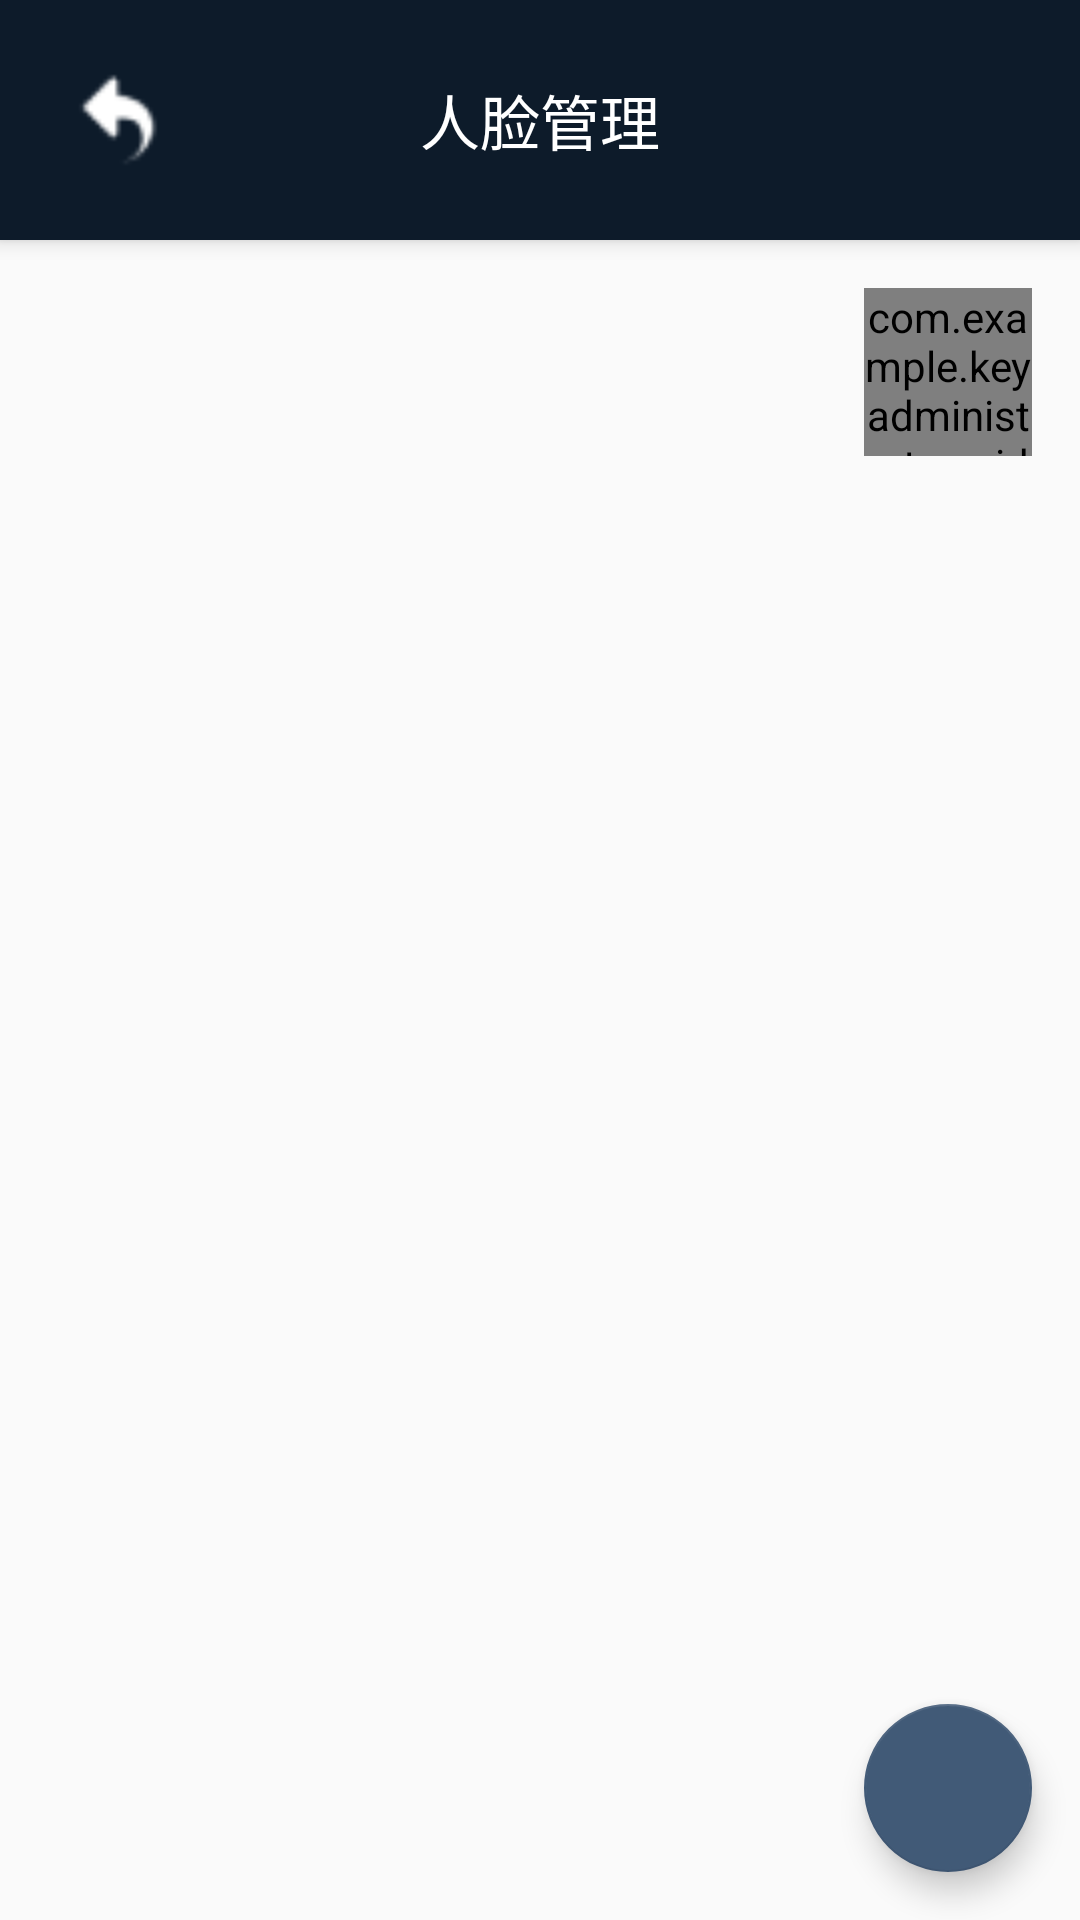

Icon click points for this 1080x1920 phone screenshot, format (x=x, y=y):
返回: (x=119, y=117)
